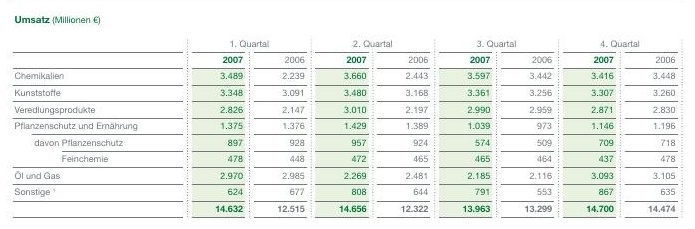table: (0, 0, 695, 229)
